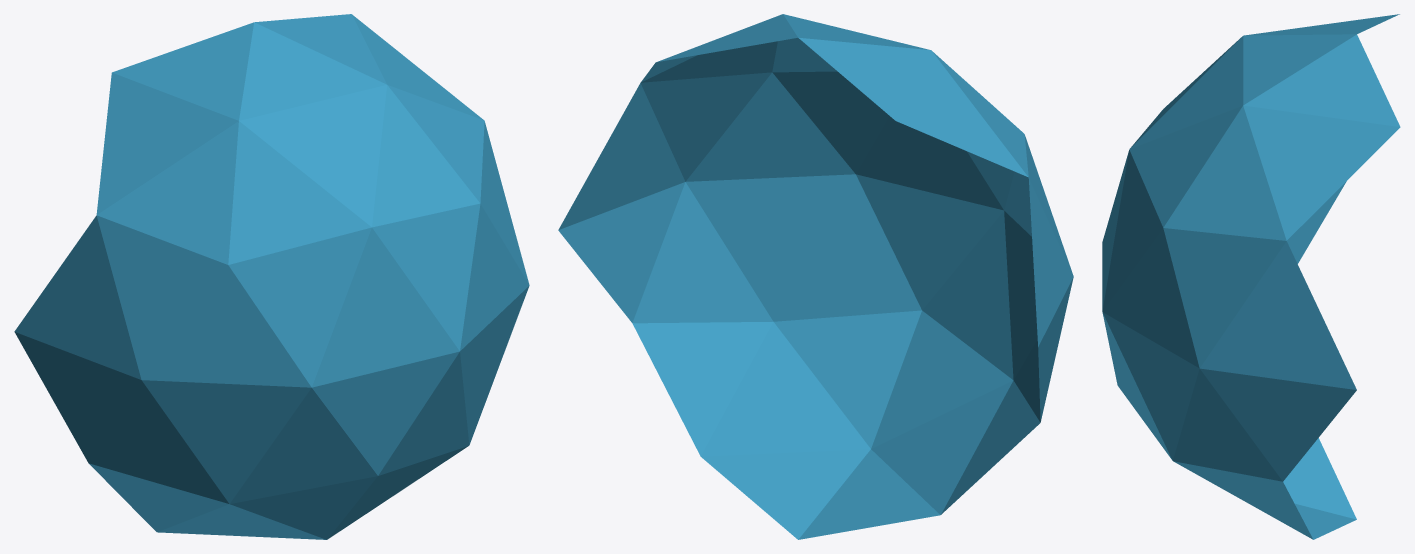
File: shield.glb
3 renders of one model, left to right at view 1: azimuth 30°, elevation 25°; view 2: azimuth 150°, elevation 25°; view 3: azimuth 270°, elevation 25°, orthographic. The views are drawn at different scales.
Parts seen in each view (by area): view 1: Shield; view 2: Shield; view 3: Shield.
Boxes of the visible parts, left/top/right/bottom form: Shield: left=14, top=14, right=529, bottom=539; Shield: left=558, top=14, right=1073, bottom=539; Shield: left=1102, top=14, right=1400, bottom=539.
Size of the model in its own units: 2 by 2 by 1.11.
